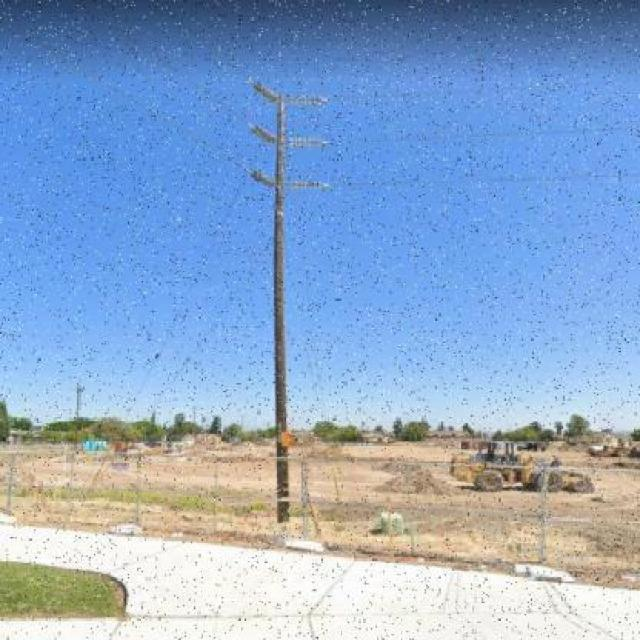pole: (218, 47, 339, 536)
